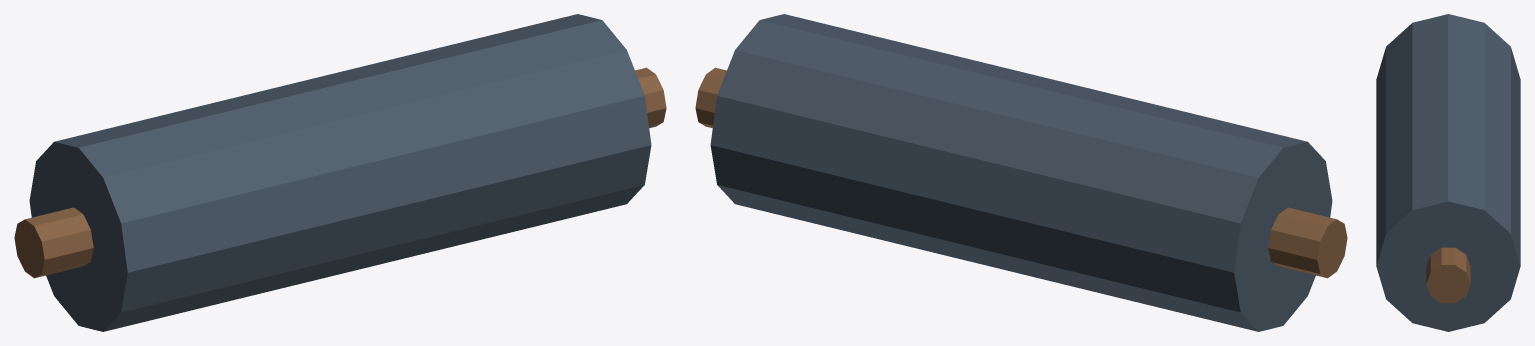
Rendered from L-38_belt_roller.glb.
The picture shows the model from 3 angles, left to right: view 1: azimuth 30°, elevation 25°; view 2: azimuth 150°, elevation 25°; view 3: azimuth 270°, elevation 25°; orthographic projection. The views are drawn at different scales.
Parts seen in each view (by area): view 1: L-38_belt_roller; view 2: L-38_belt_roller; view 3: L-38_belt_roller.
Part boxes in pixels (x1=…): L-38_belt_roller: x1=14, y1=14, x2=666, y2=331; L-38_belt_roller: x1=695, y1=14, x2=1347, y2=331; L-38_belt_roller: x1=1376, y1=14, x2=1520, y2=331.
Bounding box in the file's own units: 0.38 × 0.104 × 0.104.
